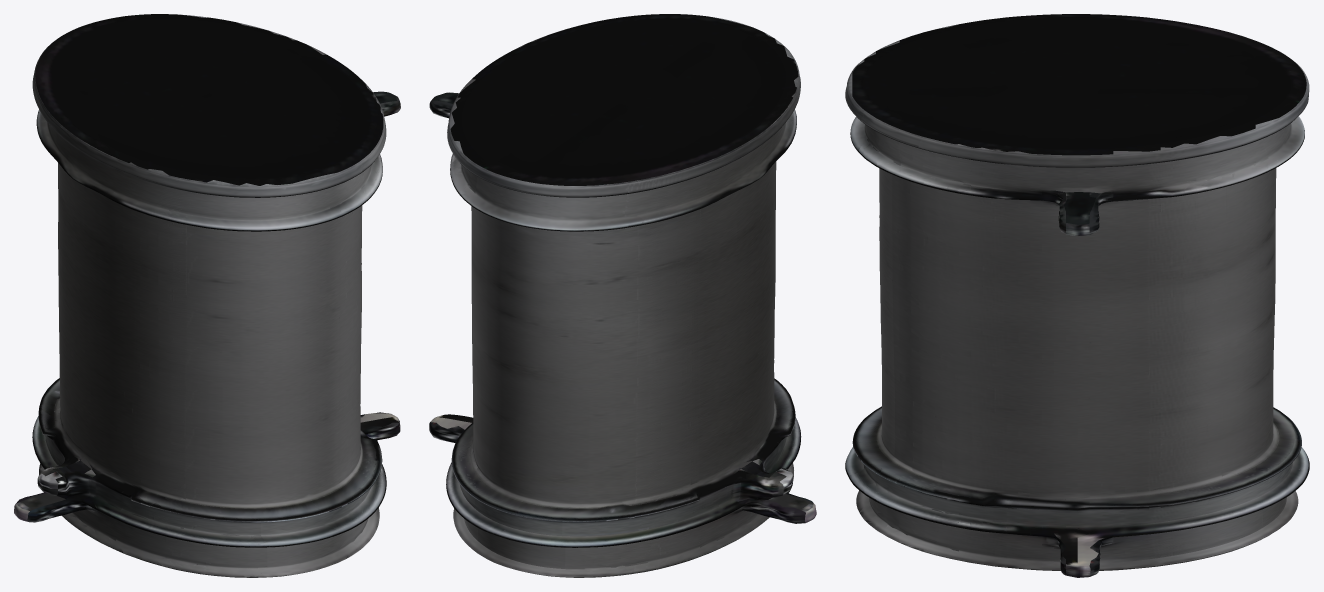
Rendered from roof-downpipe.glb.
The picture shows the model from 3 angles, left to right: view 1: azimuth 30°, elevation 25°; view 2: azimuth 150°, elevation 25°; view 3: azimuth 270°, elevation 25°; orthographic projection. The views are drawn at different scales.
Parts seen in each view (by area): view 1: tmp8b6jsens.ply; view 2: tmp8b6jsens.ply; view 3: tmp8b6jsens.ply.
Part boxes in pixels (bbox=[...]): tmp8b6jsens.ply: bbox=[14, 14, 400, 577]; tmp8b6jsens.ply: bbox=[429, 14, 816, 577]; tmp8b6jsens.ply: bbox=[845, 14, 1309, 577].
Bounding box in the file's own units: 1 × 1 × 1.
Materials: 1 (1 with a texture image).
